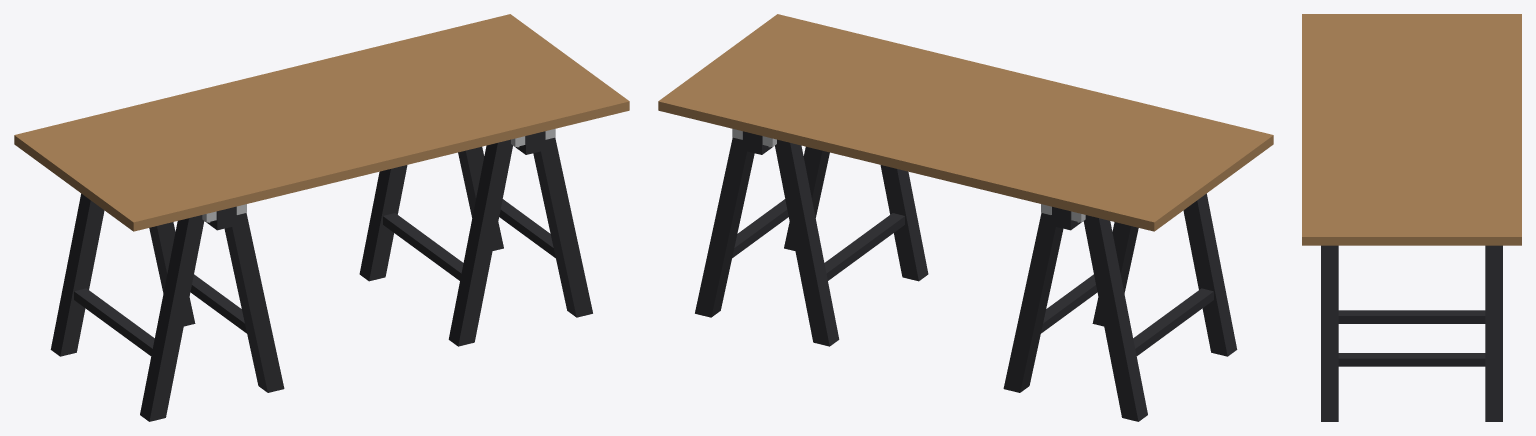
The model's file is FN_Table_Trestle.glb.
The picture shows the model from 3 angles, left to right: view 1: azimuth 30°, elevation 25°; view 2: azimuth 150°, elevation 25°; view 3: azimuth 270°, elevation 25°; orthographic projection. The views are drawn at different scales.
Visible parts, largest first — view 1: FN_Table_Trestle; view 2: FN_Table_Trestle; view 3: FN_Table_Trestle.
Part boxes in pixels (x1,y1,x2,y2): FN_Table_Trestle: (14,14,629,421); FN_Table_Trestle: (658,14,1273,421); FN_Table_Trestle: (1302,14,1521,421).
Size of the model in its own units: 1.8 by 0.74 by 0.75.
1 material, 1 textured.
